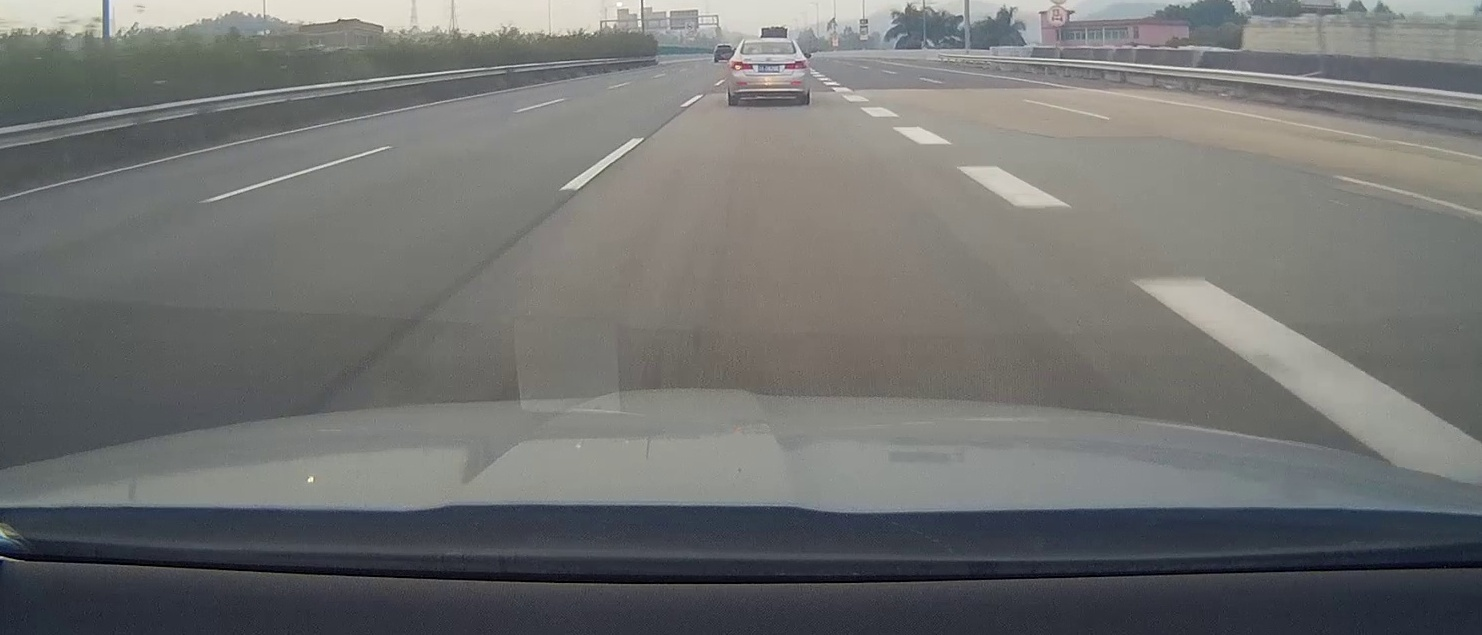L_light: (731, 61, 752, 70)
R_light: (785, 61, 806, 69)
T_light: (763, 42, 773, 45)
day-left: (728, 38, 810, 104)
